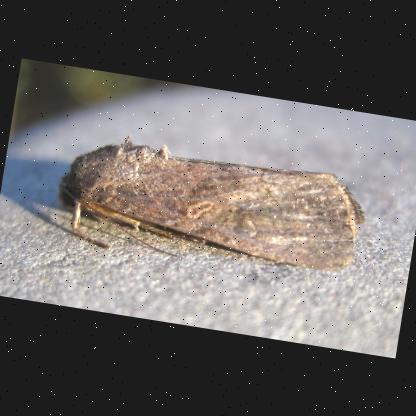Fall Armyworm Moth: (46, 124, 374, 292)
